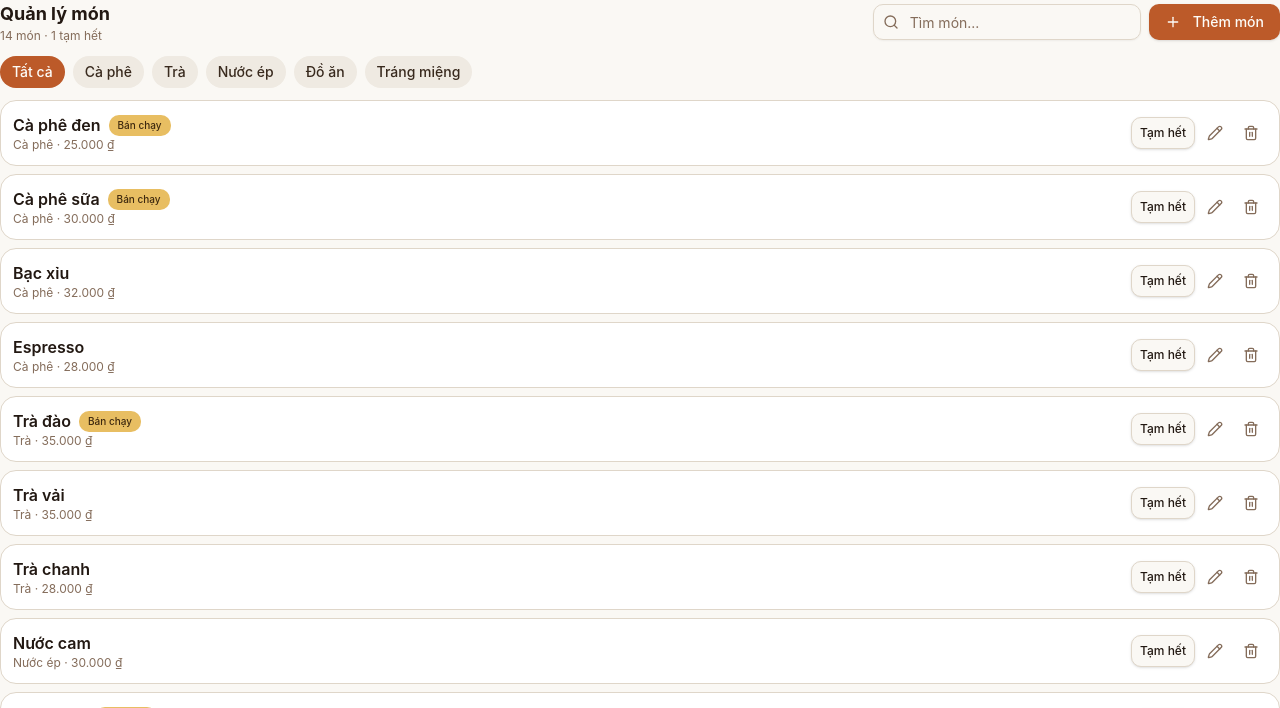
Test: MenuManagement › names the empty state when search has no matches
Type "xyz-no-match" into the search field labelled "Tìm món" at (1007, 22), box top-left (873, 4), bottom-right (1141, 40)
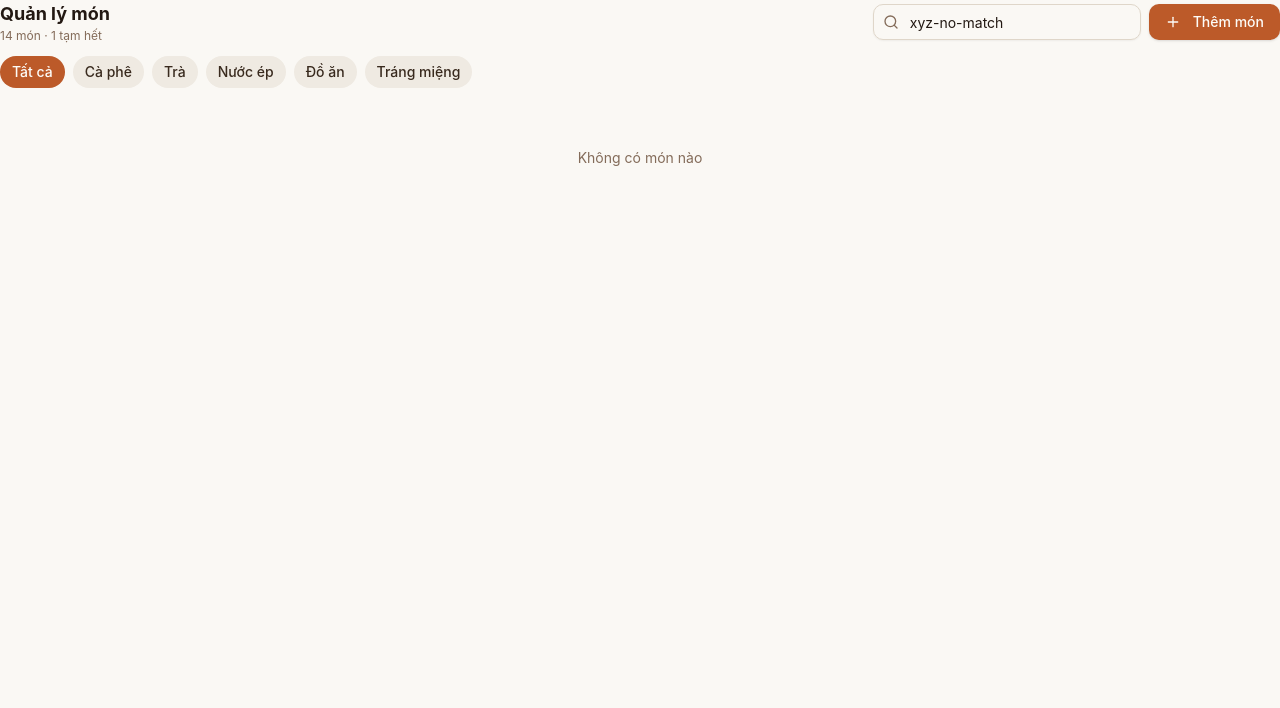
expect the message "Không có món nào" is shown: met, box top-left (578, 149), bottom-right (702, 166)
